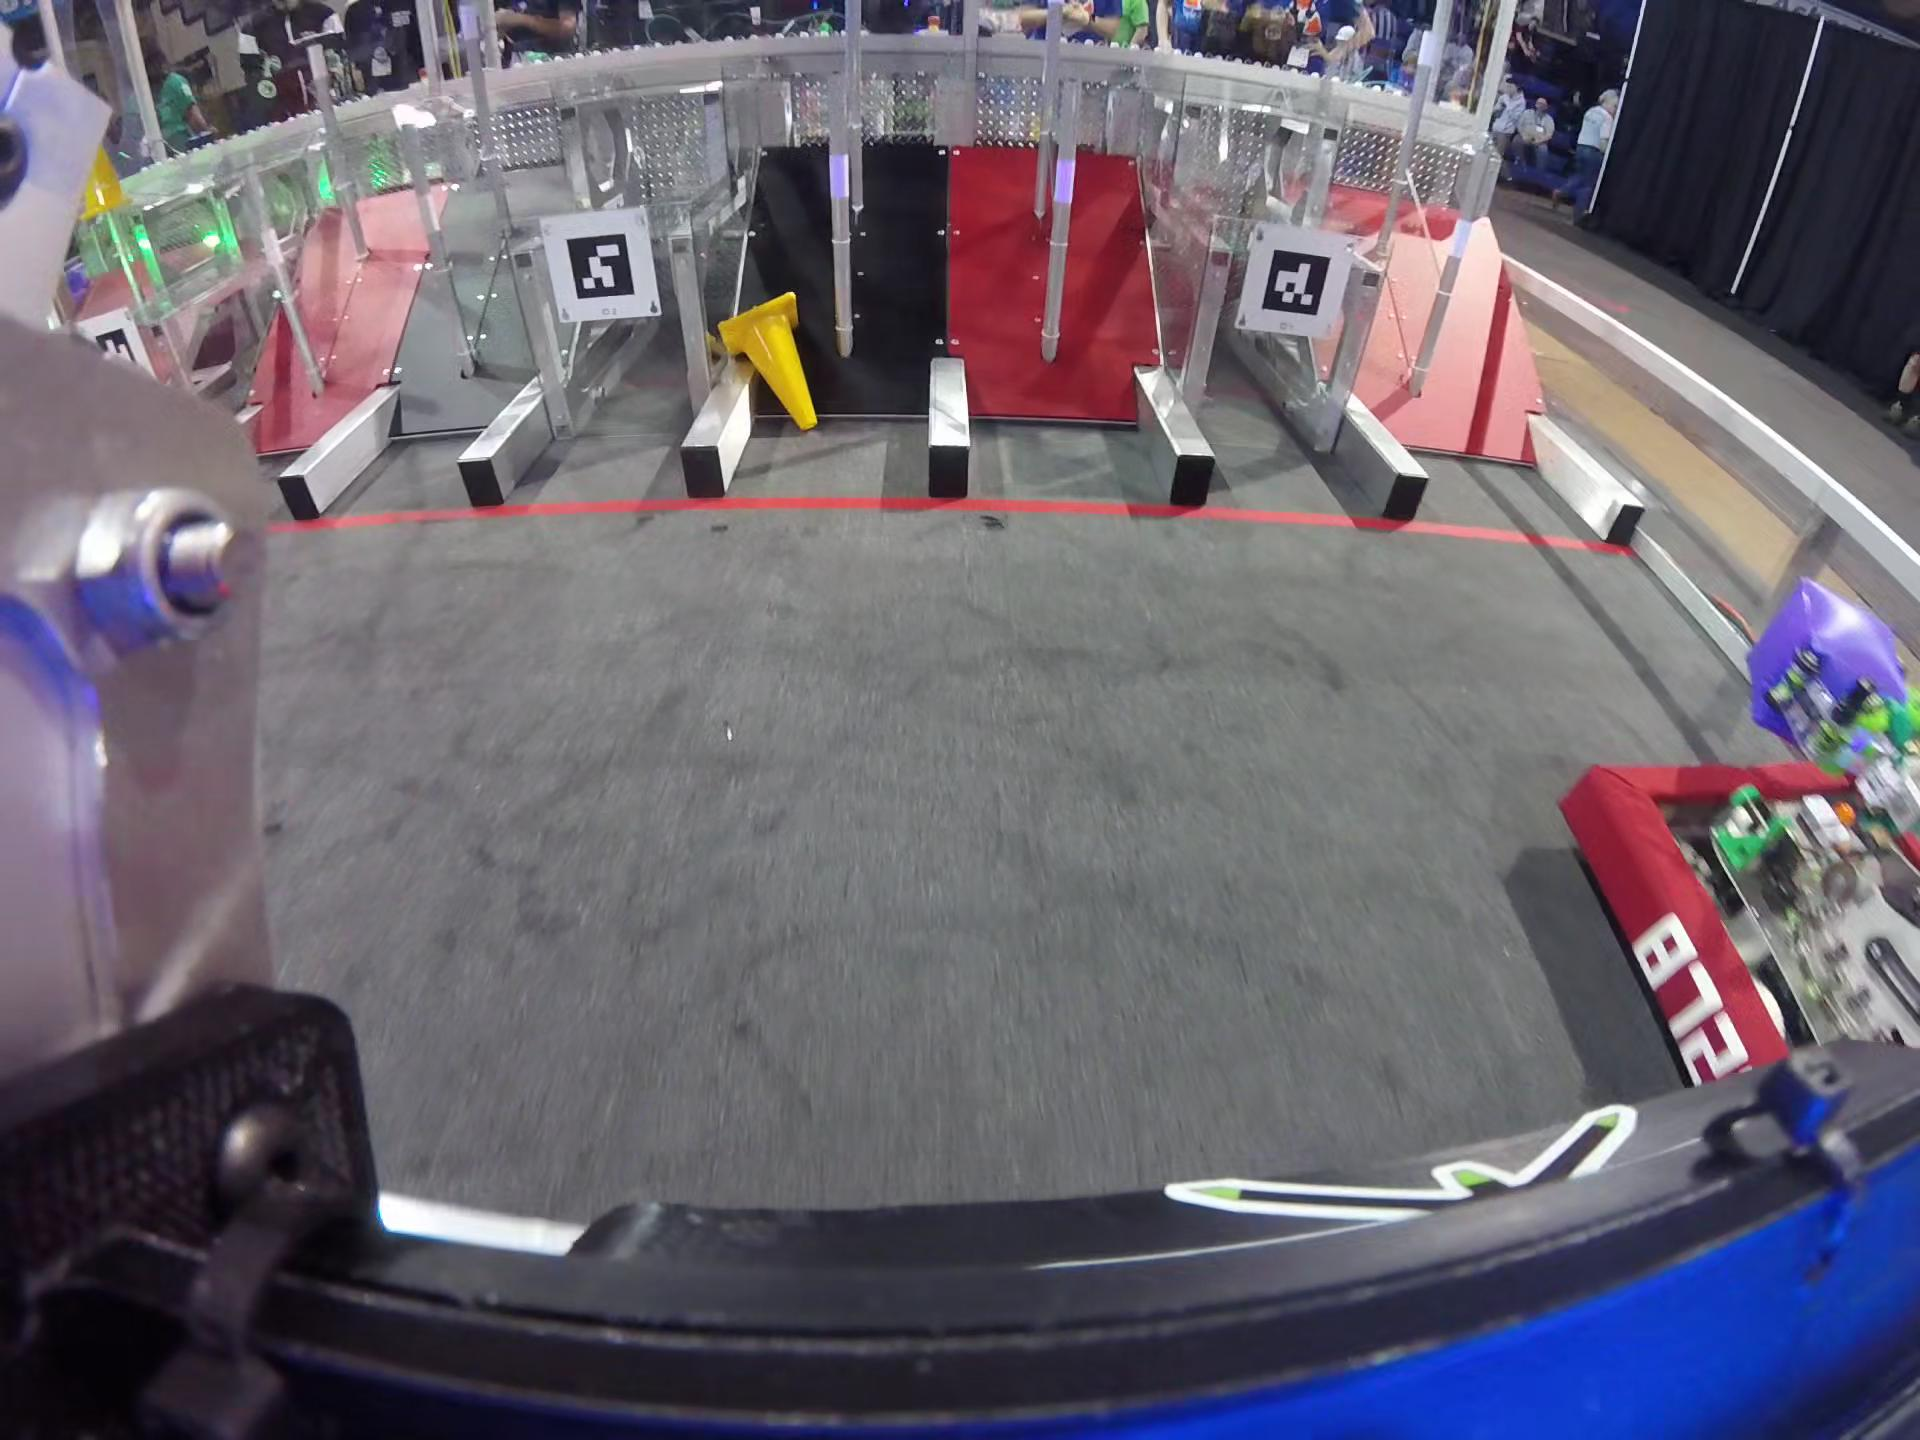robot: (1565, 691, 1918, 1109)
